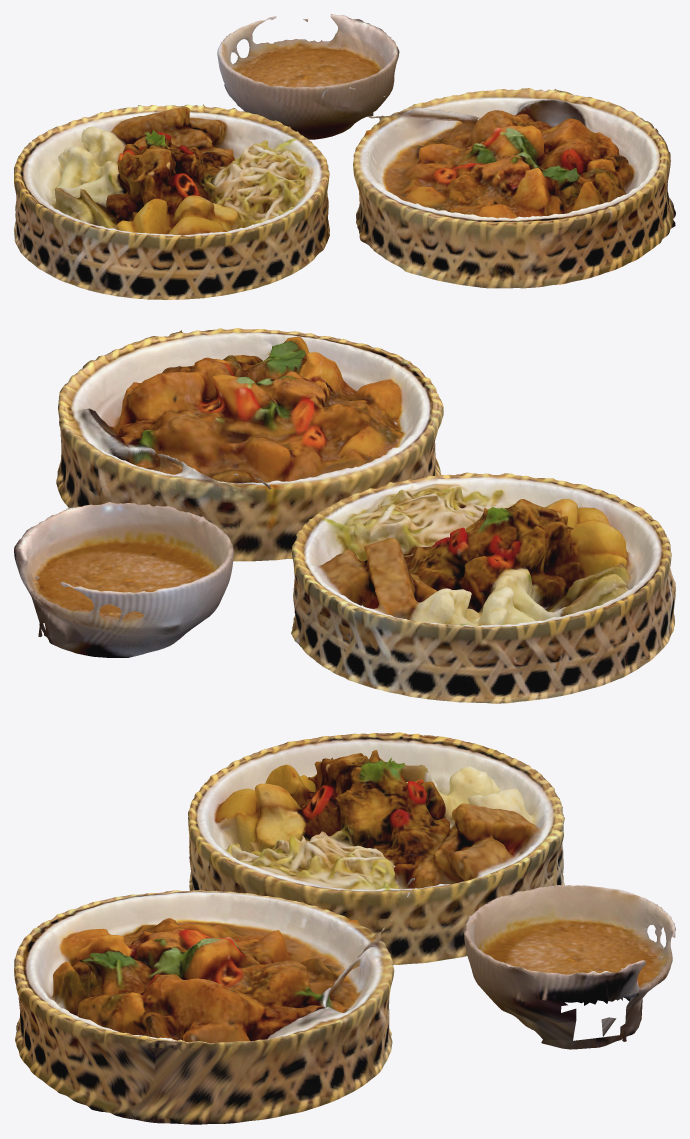
File: platter.glb
The picture shows the model from 3 angles, top to bottom: view 1: azimuth 30°, elevation 25°; view 2: azimuth 150°, elevation 25°; view 3: azimuth 270°, elevation 25°; orthographic projection. The views are drawn at different scales.
Visible parts, largest first — view 1: mesh_main_0; view 2: mesh_main_0; view 3: mesh_main_0.
Part boxes in pixels (x1,y1,x2,y2): mesh_main_0: [14, 14, 675, 299]; mesh_main_0: [14, 328, 675, 703]; mesh_main_0: [14, 732, 675, 1124].
Bounding box in the file's own units: 0.4207 × 0.0742 × 0.3692.
Materials: 1 (1 with a texture image).
